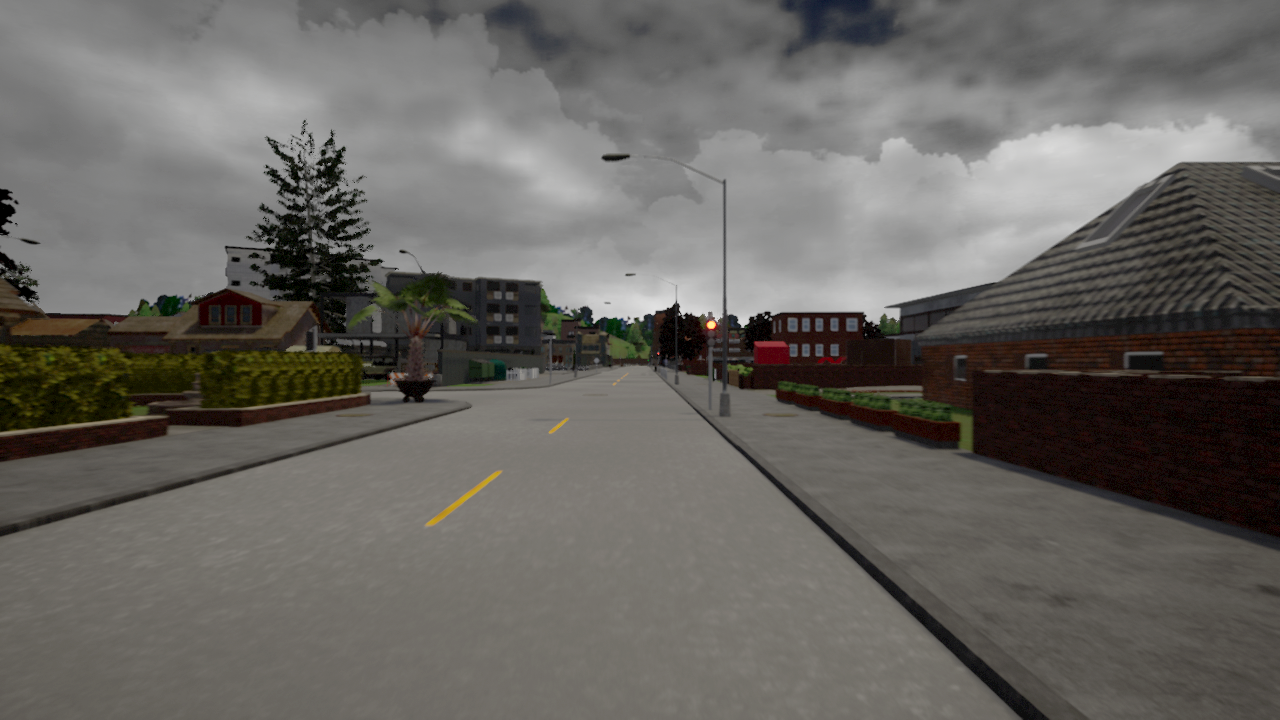red: (705, 319, 717, 347)
